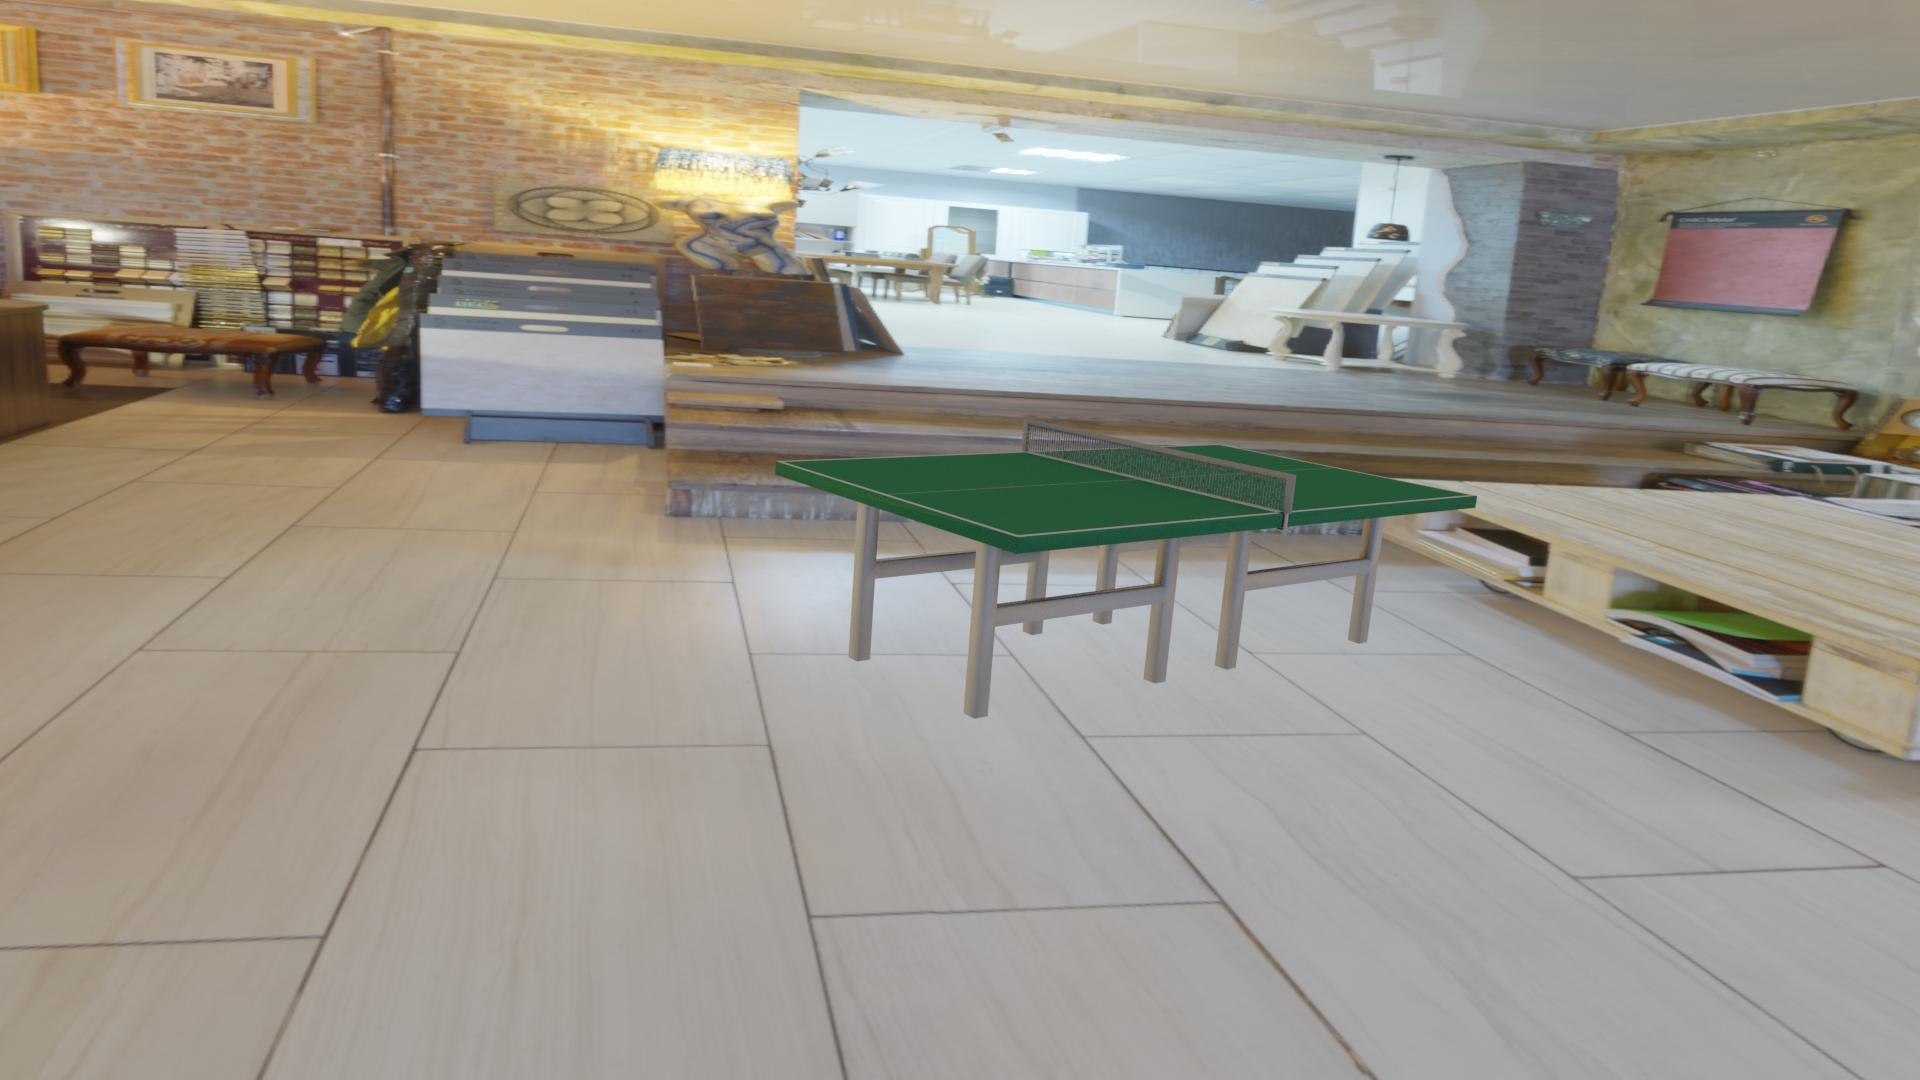table: (782, 444, 1470, 535)
